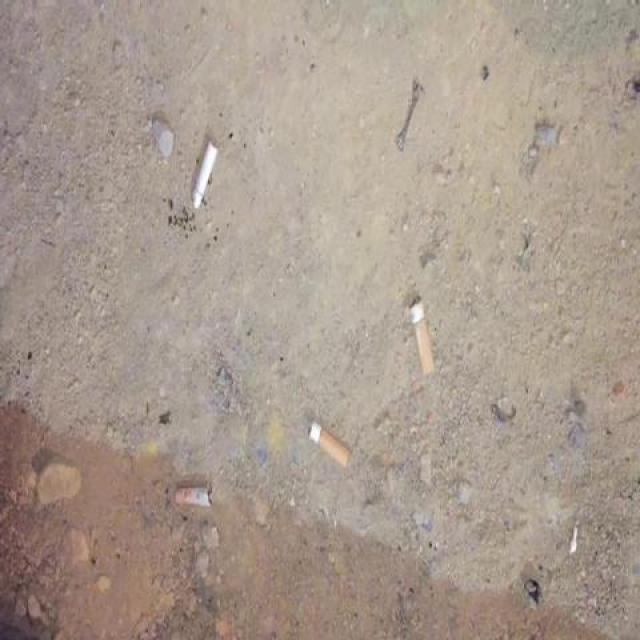non-organic waste: (403, 290, 438, 378), (304, 415, 356, 470), (188, 136, 220, 216), (171, 480, 217, 512)
